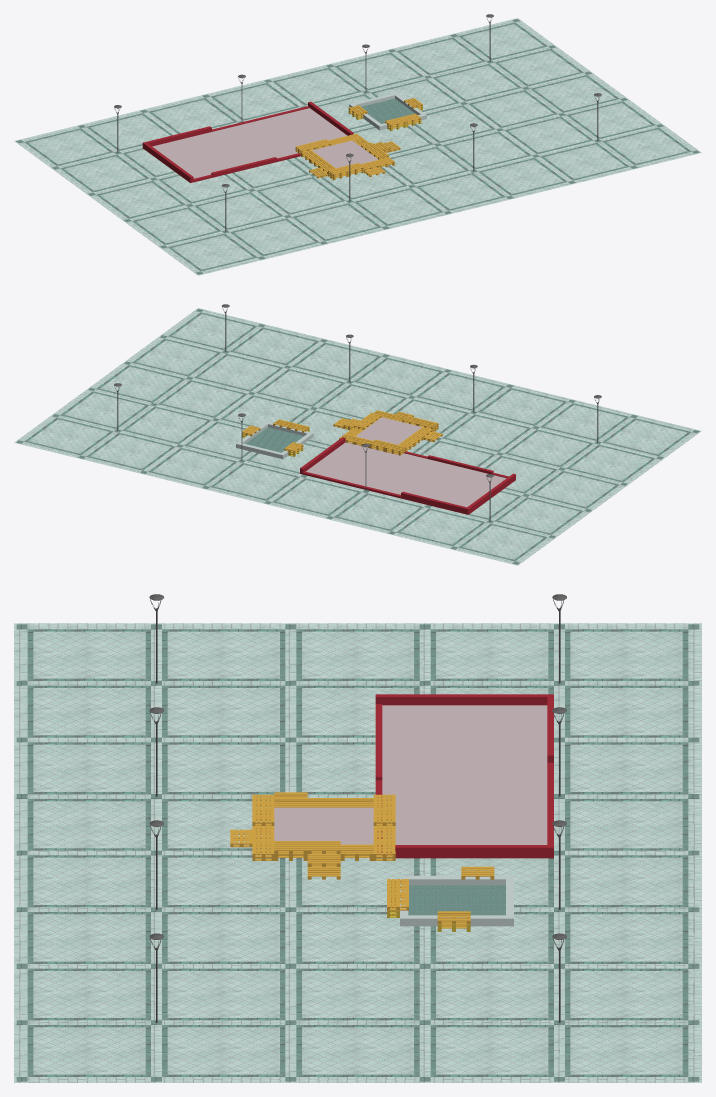
3 renders of one model, top to bottom at view 1: azimuth 30°, elevation 25°; view 2: azimuth 150°, elevation 25°; view 3: azimuth 270°, elevation 25°, orthographic. The views are drawn at different scales.
Visible parts, largest first — view 1: square 1 component (×37), object 1396, object 55, object 37, object 54, object 53; view 2: square 1 component (×37), object 1396, object 55, object 37, object 53, object 54; view 3: square 1 component (×37), object 1396, object 55, object 37, object 54, object 53.
Boxes of the visible parts, x1=… form: square 1 component (×37): x1=16, y1=22, x2=691, y2=271; object 1396: x1=14, y1=18, x2=701, y2=275; object 55: x1=152, y1=108, x2=347, y2=178; object 37: x1=312, y1=140, x2=378, y2=168; object 54: x1=361, y1=98, x2=414, y2=123; object 53: x1=349, y1=93, x2=426, y2=130; square 1 component (×37): x1=24, y1=312, x2=691, y2=564; object 1396: x1=14, y1=308, x2=701, y2=565; object 55: x1=306, y1=442, x2=506, y2=507; object 37: x1=355, y1=417, x2=421, y2=444; object 53: x1=236, y1=421, x2=313, y2=459; object 54: x1=245, y1=427, x2=303, y2=452; square 1 component (×37): x1=27, y1=624, x2=699, y2=1076; object 1396: x1=14, y1=623, x2=701, y2=1082; object 55: x1=382, y1=705, x2=547, y2=849; object 37: x1=274, y1=807, x2=373, y2=844; object 54: x1=408, y1=885, x2=505, y2=915; object 53: x1=400, y1=875, x2=513, y2=926.
Bounding box in the file's own units: 1.8 × 0.1598 × 1.14.
12 materials, 4 textured.
